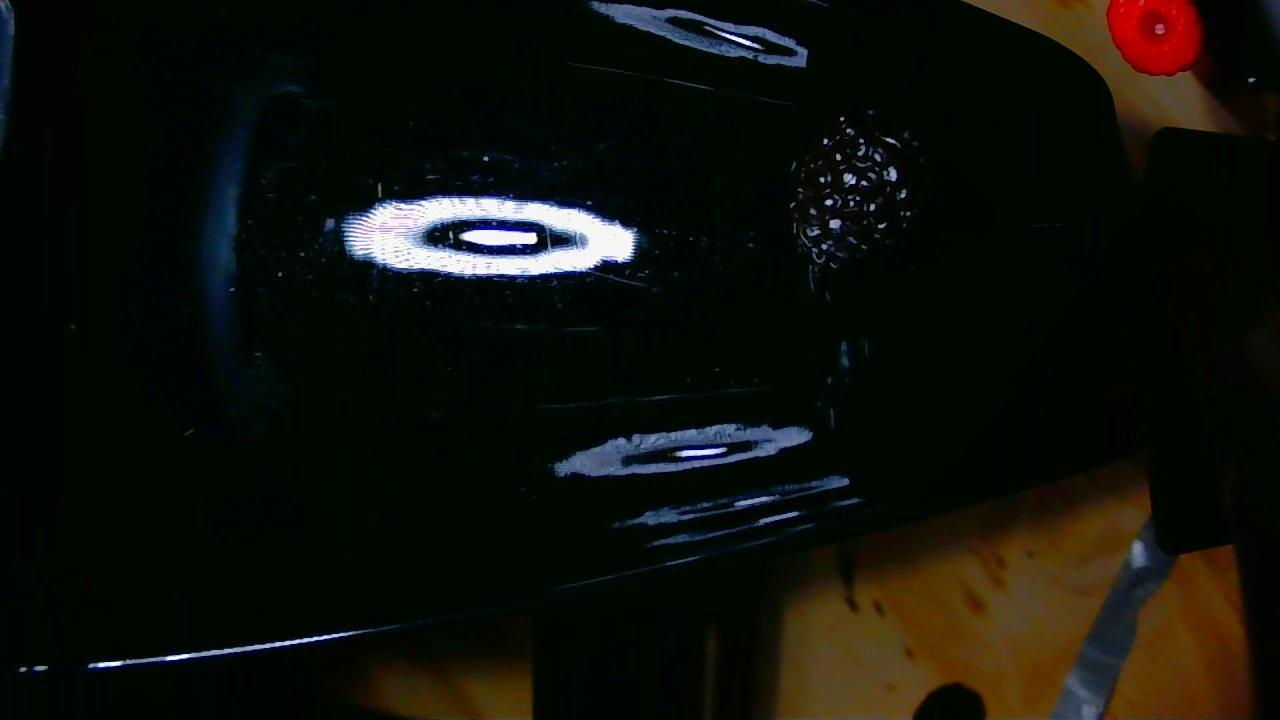berry: (790, 110, 920, 271), (1106, 0, 1203, 75)
